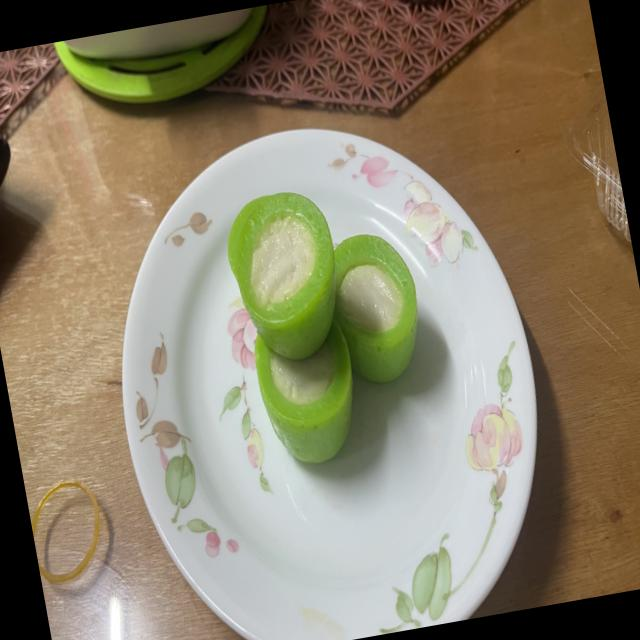nona-manis: (235, 193, 335, 358), (254, 320, 352, 463), (334, 233, 417, 382), (227, 196, 268, 280)
